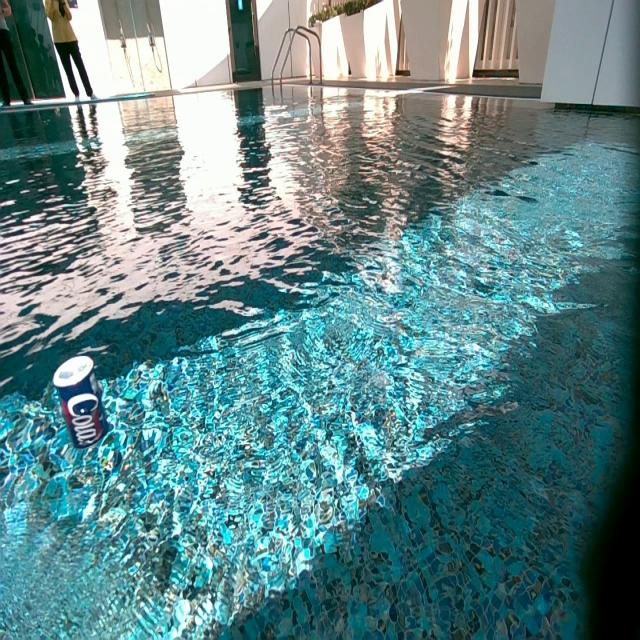Cans: (50, 352, 114, 426)
